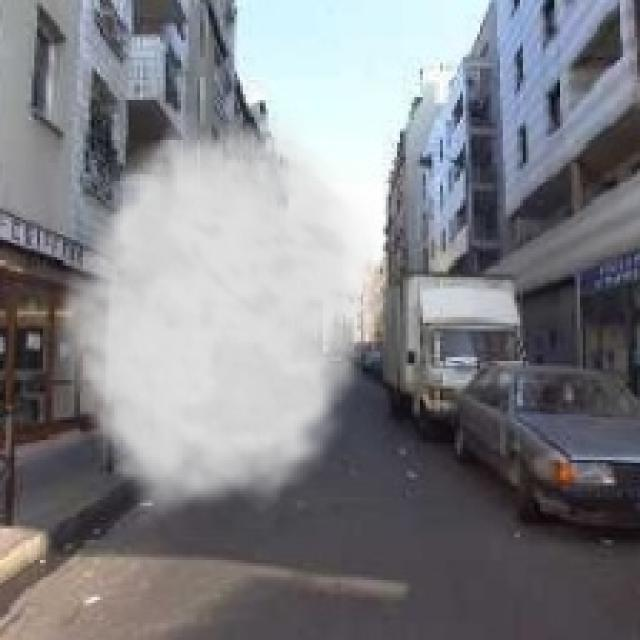Smoke: (49, 109, 398, 528)
